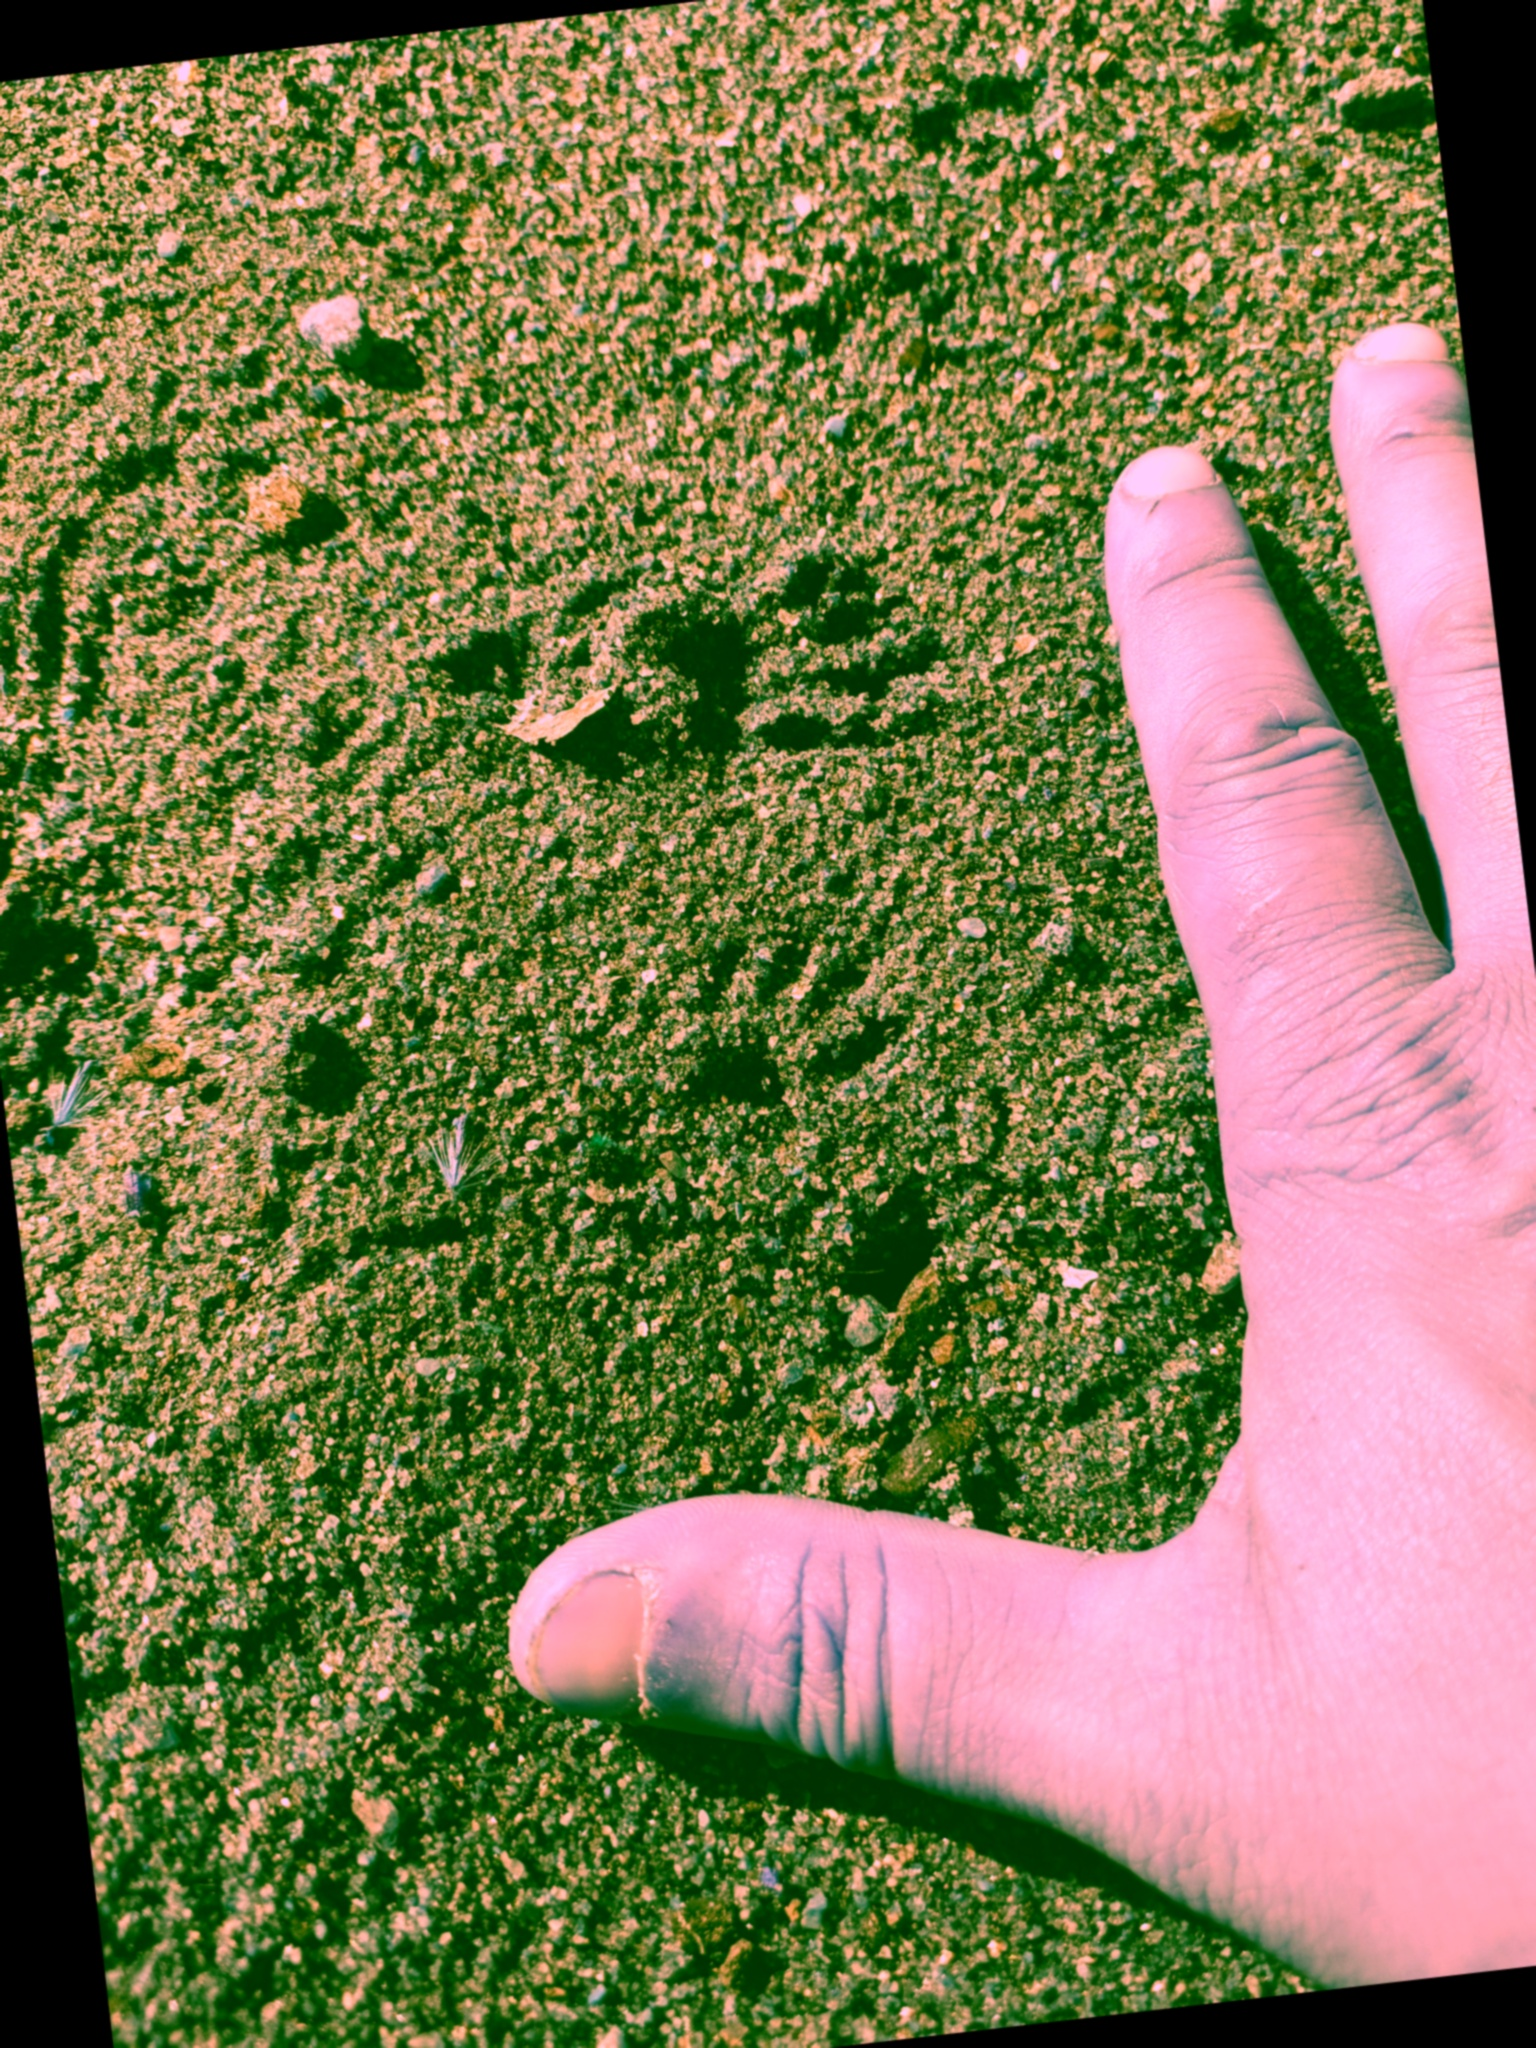ecureuil: (1091, 335, 1536, 1177), (461, 455, 1049, 795), (586, 880, 992, 1284)
